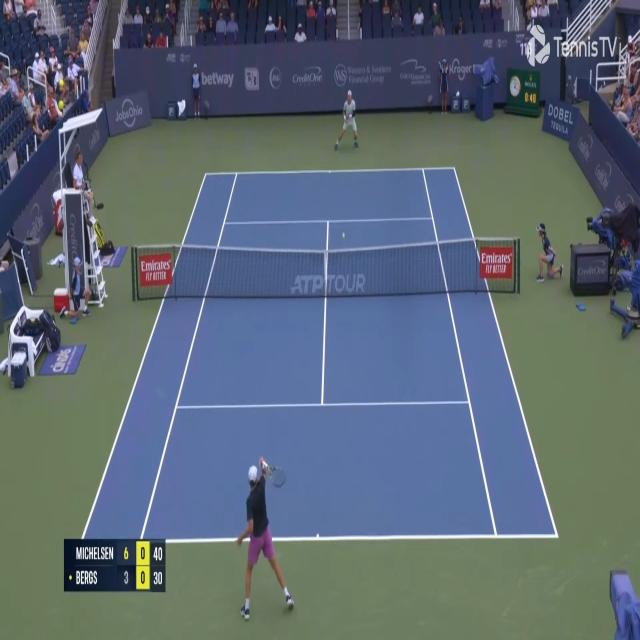tennis-player: (233, 452, 297, 625), (334, 88, 359, 154)
